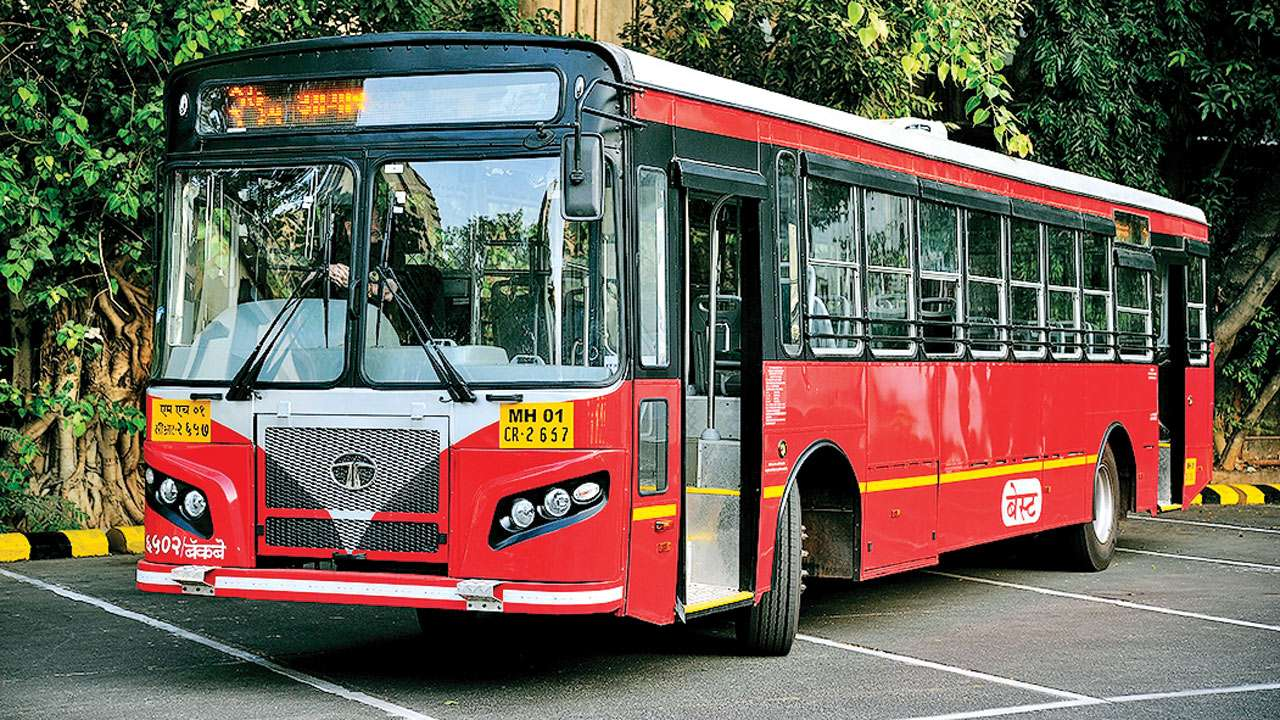bus: (138, 34, 1223, 655)
